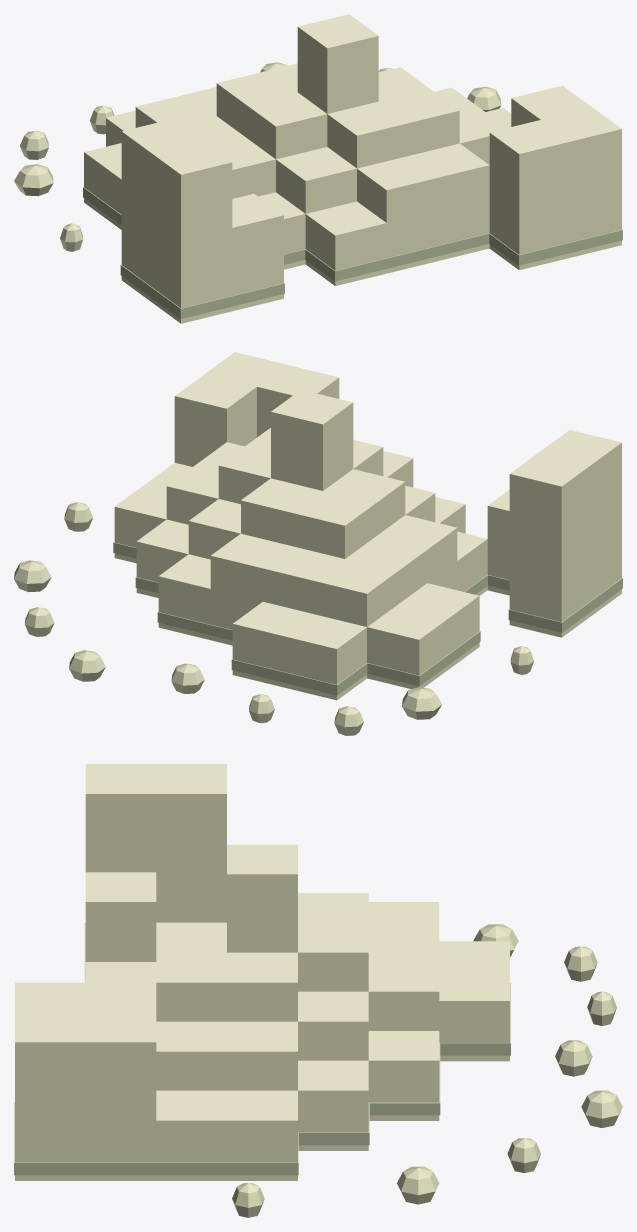
The model's file is Cliffs.obj.
The picture shows the model from 3 angles, top to bottom: view 1: azimuth 30°, elevation 25°; view 2: azimuth 150°, elevation 25°; view 3: azimuth 270°, elevation 25°; orthographic projection. The views are drawn at different scales.
Visible parts, largest first — view 1: Cliffs; view 2: Cliffs; view 3: Cliffs.
Boxes of the visible parts, bbox=[...] form: Cliffs: bbox=[14, 14, 622, 323]; Cliffs: bbox=[14, 352, 622, 735]; Cliffs: bbox=[14, 764, 622, 1217].
Size of the model in its own units: 9.64 by 3.44 by 8.61.
